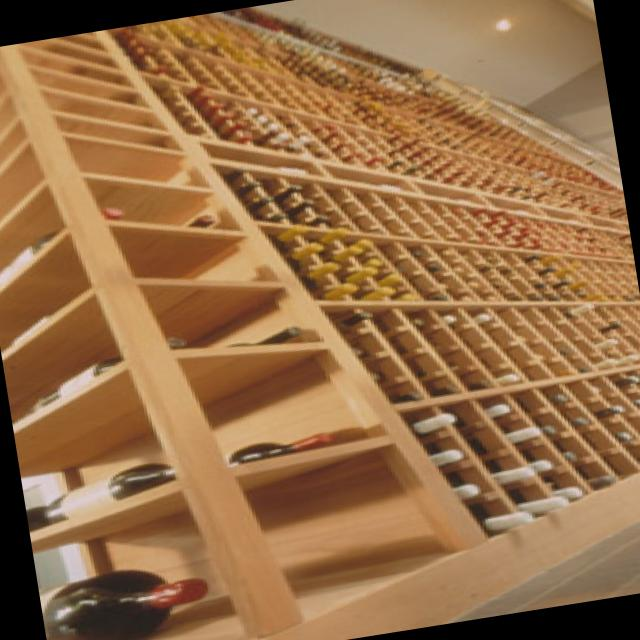bottle occluded: (41, 568, 207, 640)
ceiling beam: (247, 0, 600, 104)
floor -X: (439, 514, 640, 622)
shelves crop: (0, 8, 640, 640)
wall clock: (526, 59, 615, 157)
